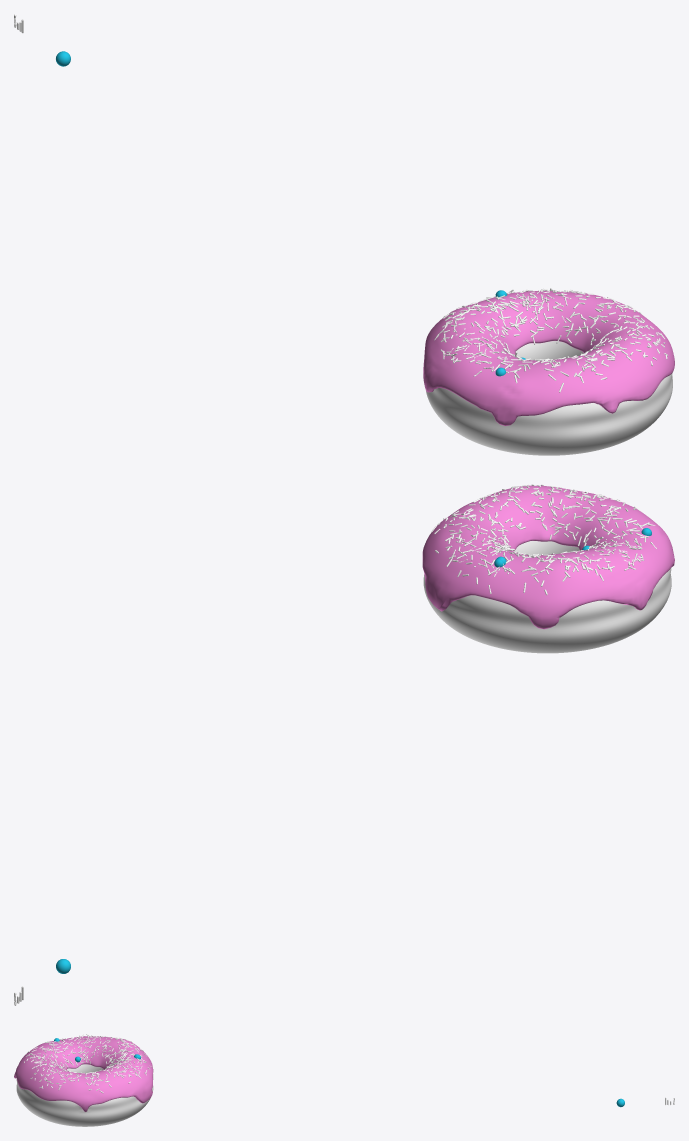
The model's file is THEFINALBOSSSSSS.glb.
3 views of the same model, one above another, from view 1: azimuth 30°, elevation 25°; view 2: azimuth 150°, elevation 25°; view 3: azimuth 270°, elevation 25° (orthographic). The views are drawn at different scales.
Parts seen in each view (by area): view 1: ice, donut base; view 2: ice, donut base; view 3: ice, donut base.
Part boxes in pixels (box(x1,y1,x2,y2)): ice: box(423, 291, 674, 426); donut base: box(426, 341, 672, 455); ice: box(422, 485, 674, 629); donut base: box(423, 541, 671, 653); ice: box(14, 1036, 153, 1111); donut base: box(16, 1064, 153, 1126).
Bounding box in the file's own units: 0.2092 × 0.0872 × 0.9795.
